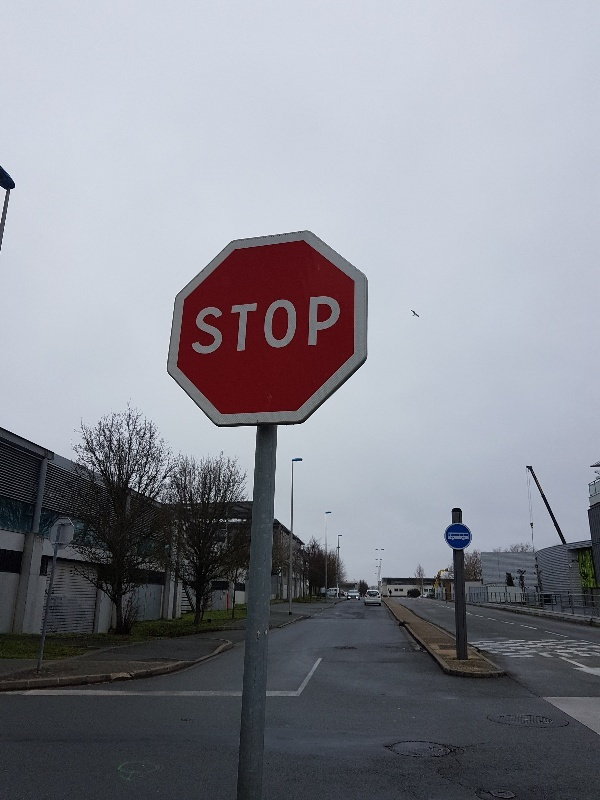text: (209, 294, 224, 357), (225, 294, 240, 357), (241, 294, 256, 357), (257, 294, 272, 357), (273, 294, 288, 357), (289, 294, 304, 357), (305, 294, 320, 357), (321, 294, 336, 357), (198, 294, 208, 357), (337, 294, 342, 357), (513, 651, 528, 660), (529, 651, 544, 660), (545, 651, 560, 660), (561, 651, 576, 660), (577, 651, 592, 660), (501, 651, 512, 660), (593, 651, 600, 660)
